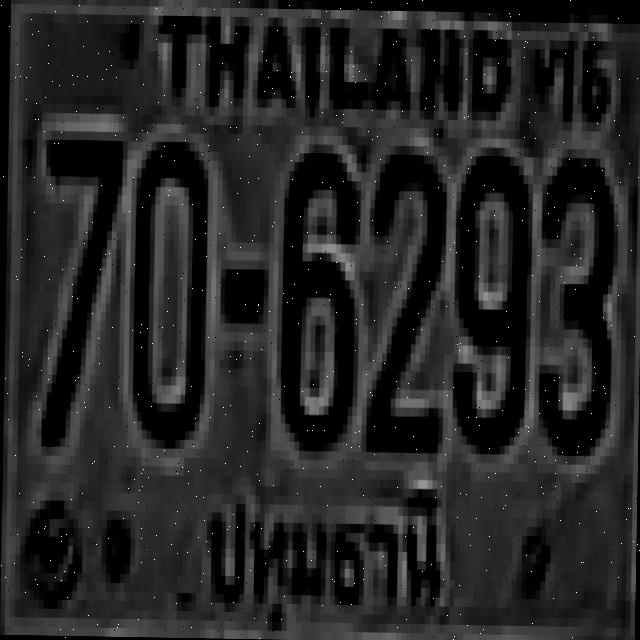0: (127, 132, 204, 440)
2: (363, 140, 445, 448)
3: (532, 148, 614, 447)
6: (274, 144, 356, 442)
7: (39, 130, 120, 438)
9: (446, 147, 528, 446)
PathumThani: (197, 476, 452, 632)
